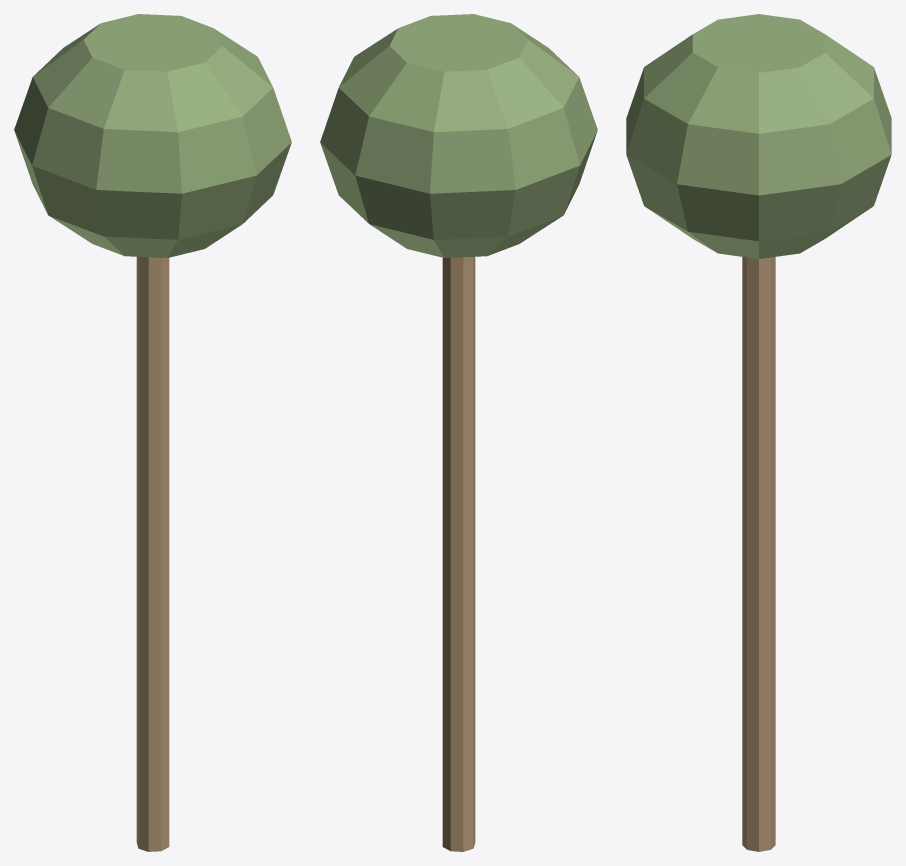
Rendered from oak-arch-10.glb.
3 views of the same model, side by side, from view 1: azimuth 30°, elevation 25°; view 2: azimuth 150°, elevation 25°; view 3: azimuth 270°, elevation 25° (orthographic).
Visible parts, largest first — view 1: living roof, timber; view 2: living roof, timber; view 3: living roof, timber.
Part boxes in pixels (left/top/right/bottom): living roof: left=14, top=14, right=291, bottom=257; timber: left=136, top=256, right=169, bottom=851; living roof: left=320, top=14, right=597, bottom=257; timber: left=442, top=256, right=475, bottom=851; living roof: left=626, top=14, right=891, bottom=258; timber: left=742, top=257, right=775, bottom=851.
Size of the model in its own units: 2.79 by 8.99 by 2.65.
